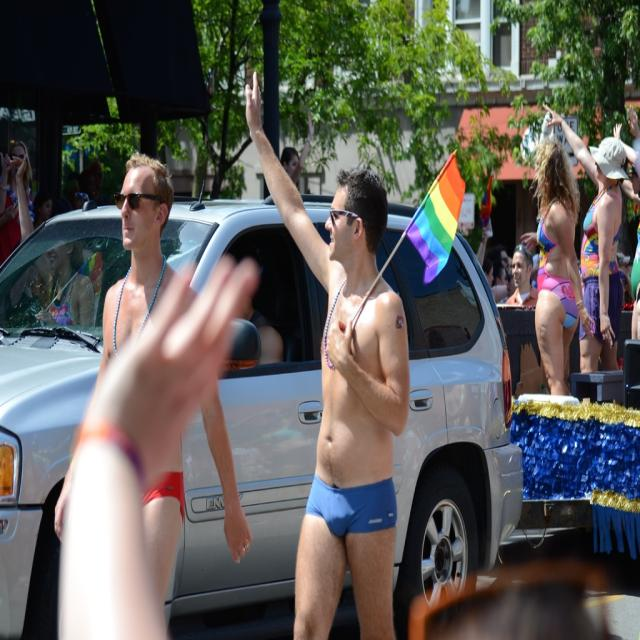car: (0, 175, 523, 638)
